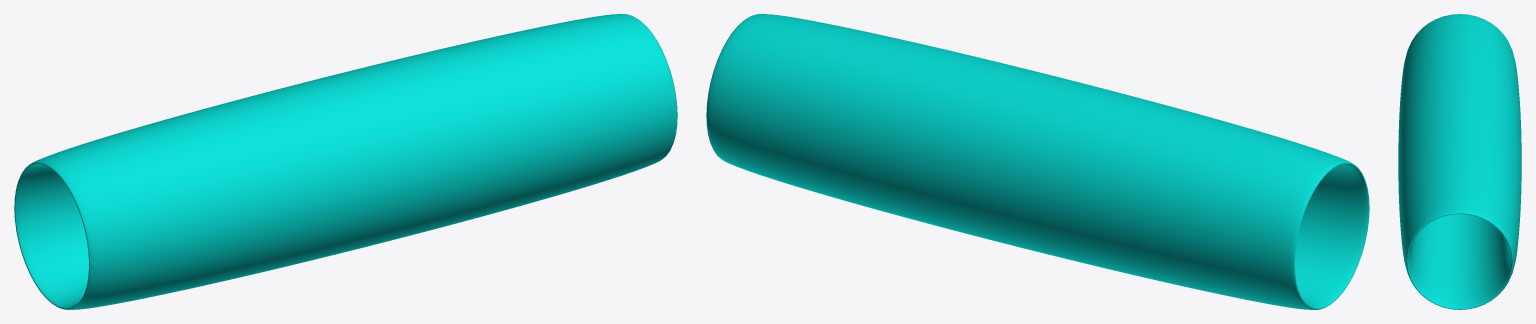
Rendered from Tunnel.fbx.
3 views of the same model, side by side, from view 1: azimuth 30°, elevation 25°; view 2: azimuth 150°, elevation 25°; view 3: azimuth 270°, elevation 25° (orthographic). The views are drawn at different scales.
Visible parts, largest first — view 1: pTorus1; view 2: pTorus1; view 3: pTorus1.
Part boxes in pixels (box(x1,y1,x2,y2)): pTorus1: box(14, 14, 677, 309); pTorus1: box(706, 14, 1369, 309); pTorus1: box(1398, 14, 1521, 309).
Size of the model in its own units: 27.92 by 7.19 by 7.16.
